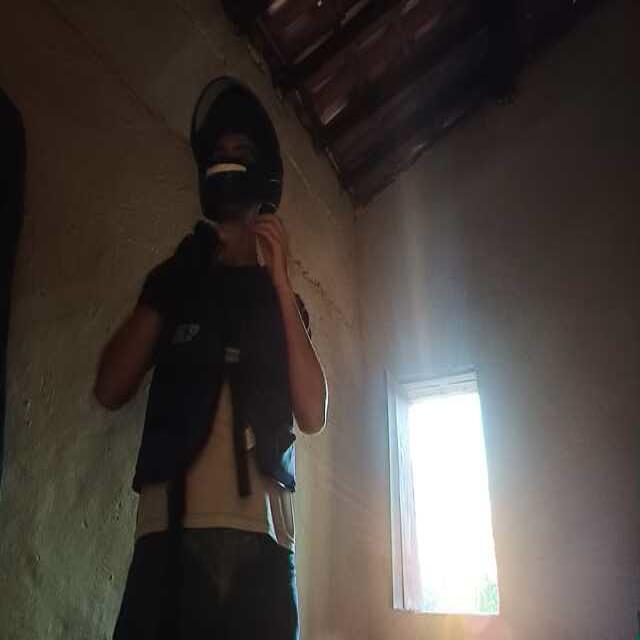capacete: (190, 76, 287, 214)
colete: (132, 252, 304, 492)
pessoa: (114, 122, 342, 640)
